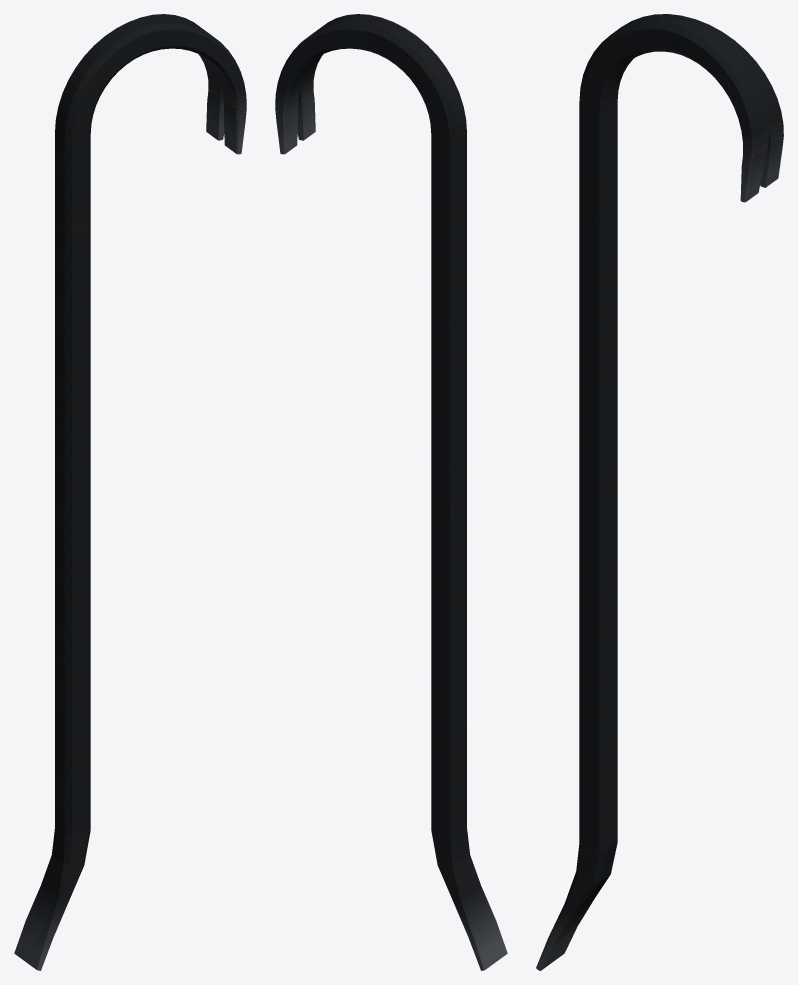
The model's file is hooked_crowbar_LOD1.glb.
The picture shows the model from 3 angles, left to right: view 1: azimuth 30°, elevation 25°; view 2: azimuth 150°, elevation 25°; view 3: azimuth 330°, elevation 25°; orthographic projection. The views are drawn at different scales.
Visible parts, largest first — view 1: Forged_Bar; view 2: Forged_Bar; view 3: Forged_Bar.
Part boxes in pixels (x1,y1,x2,y2): Forged_Bar: [14, 14, 246, 970]; Forged_Bar: [275, 14, 507, 970]; Forged_Bar: [536, 14, 783, 970].
Size of the model in its own units: 0.1746 by 0.7326 by 0.046.
Materials: 1 (1 with a texture image).
